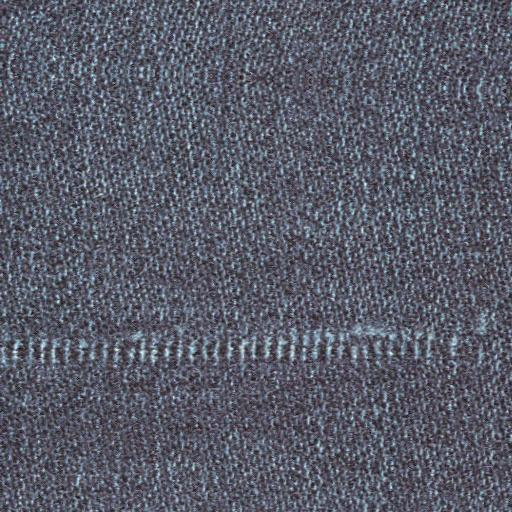slub: (4, 330, 450, 376)
